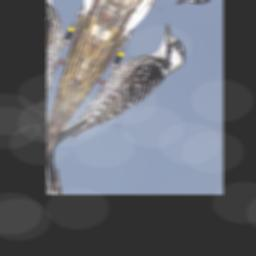Woodpecker: (51, 0, 197, 183)
